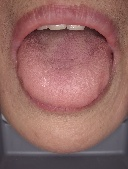tongue: (15, 45, 112, 110)
